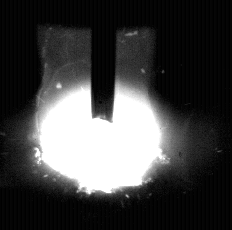arame: (92, 0, 116, 122)
poca: (38, 0, 162, 230)
